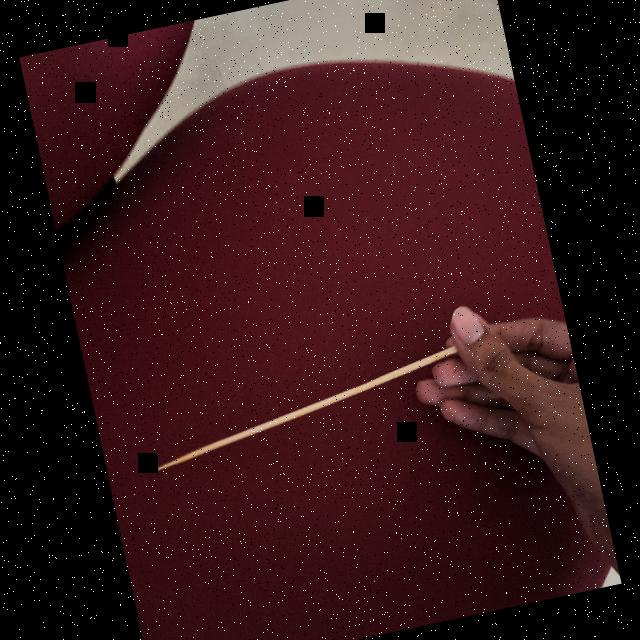stick: (140, 338, 483, 473)
